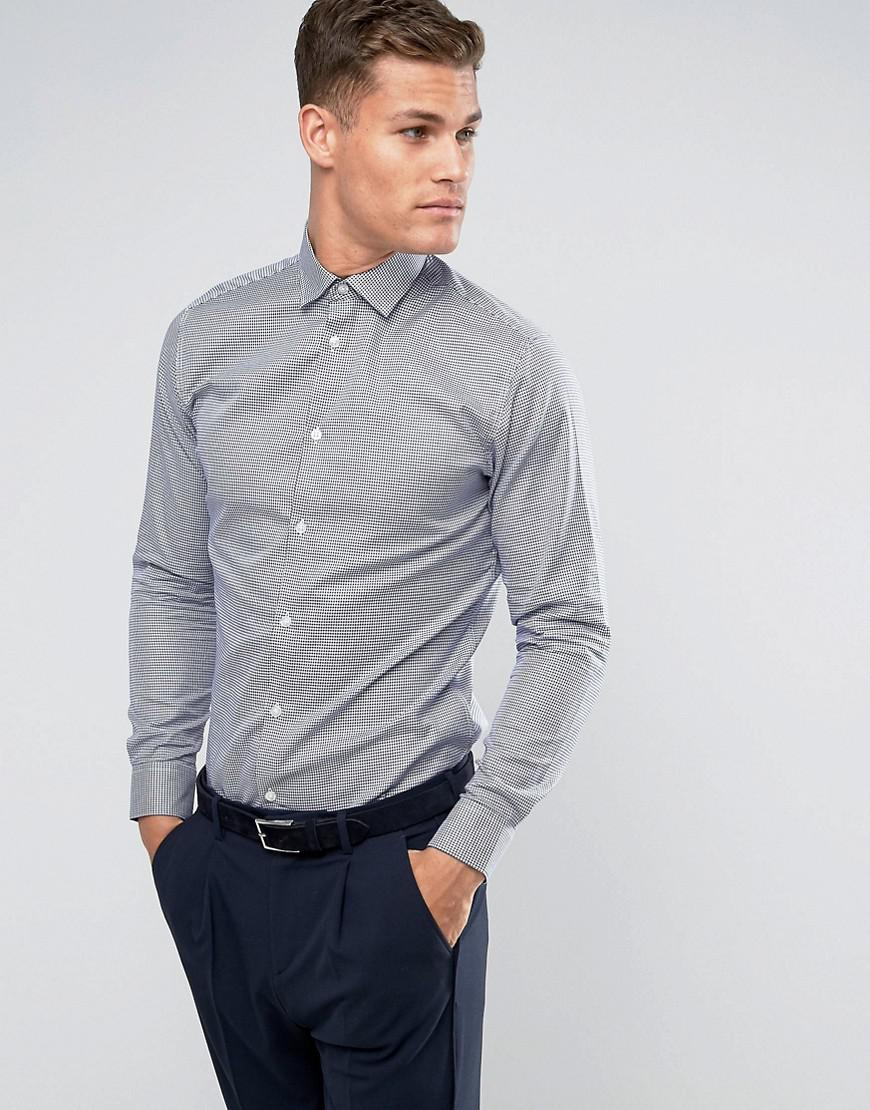teeshirt: (117, 249, 632, 798)
